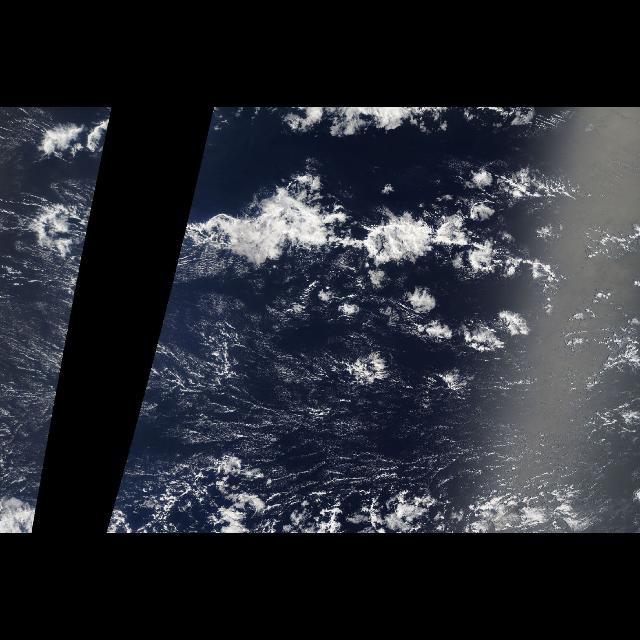Sugar: (120, 275, 640, 495), (0, 247, 80, 481)
